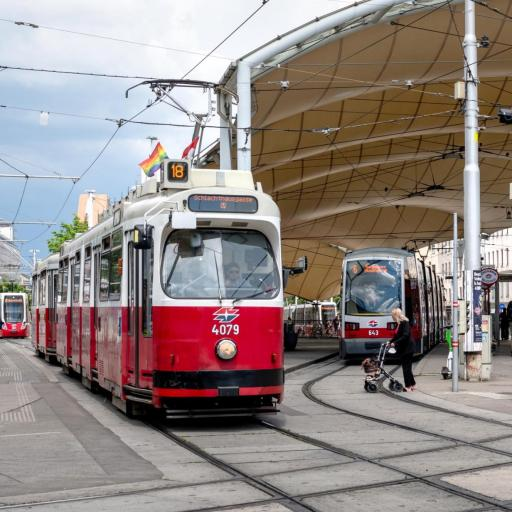E2-Tram: (32, 158, 292, 426)
ULF: (336, 244, 450, 370)
